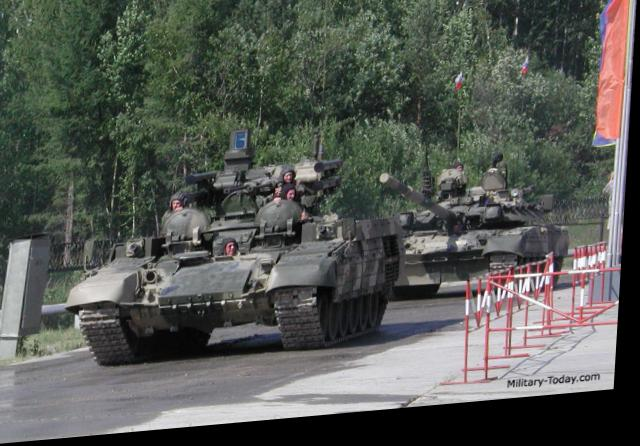other: (157, 189, 200, 239), (272, 167, 306, 211), (488, 154, 521, 193), (440, 166, 468, 200)
tank: (77, 133, 417, 382), (389, 142, 584, 320)
